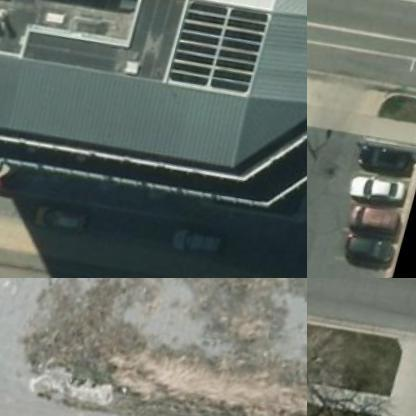car: (31, 202, 94, 250), (358, 142, 415, 186), (349, 178, 412, 216), (344, 204, 407, 242), (175, 226, 232, 267), (347, 239, 400, 274), (0, 149, 33, 202)
